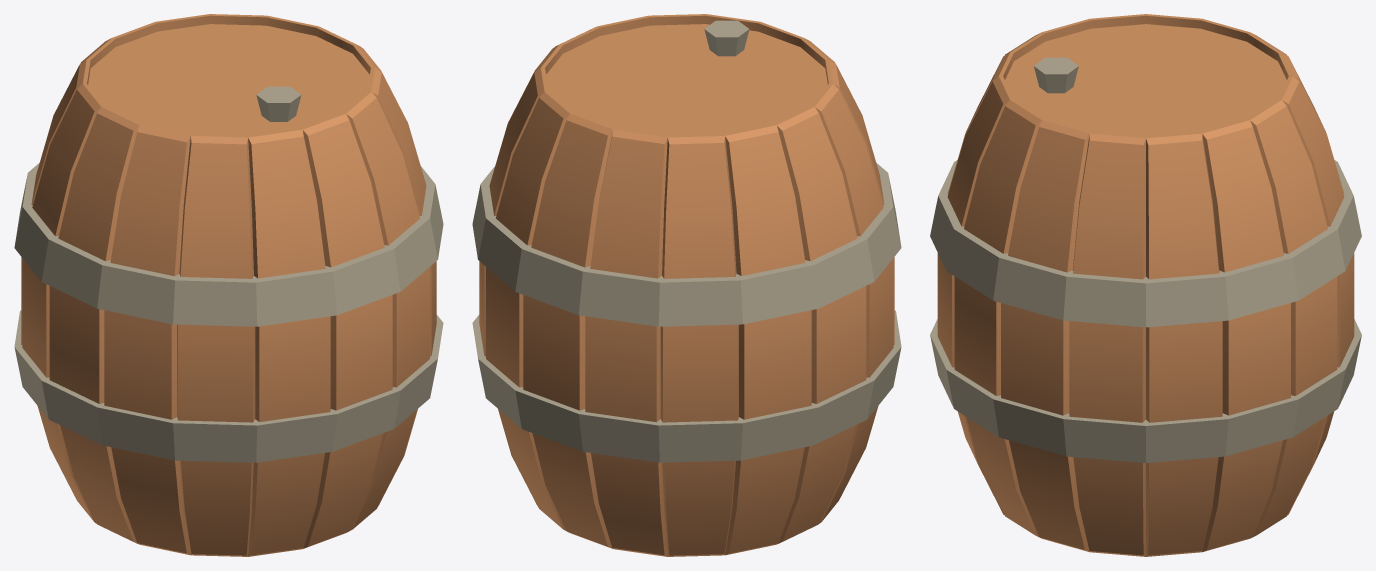
Rendered from Barrel_01.fbx.
3 renders of one model, left to right at view 1: azimuth 30°, elevation 25°; view 2: azimuth 150°, elevation 25°; view 3: azimuth 270°, elevation 25°, orthographic.
Visible parts, largest first — view 1: Barrel_01; view 2: Barrel_01; view 3: Barrel_01.
Part boxes in pixels (bbox=[...]): Barrel_01: bbox=[14, 14, 443, 556]; Barrel_01: bbox=[472, 14, 901, 556]; Barrel_01: bbox=[930, 14, 1361, 556].
Size of the model in its own units: 67.52 by 74.38 by 67.52.
